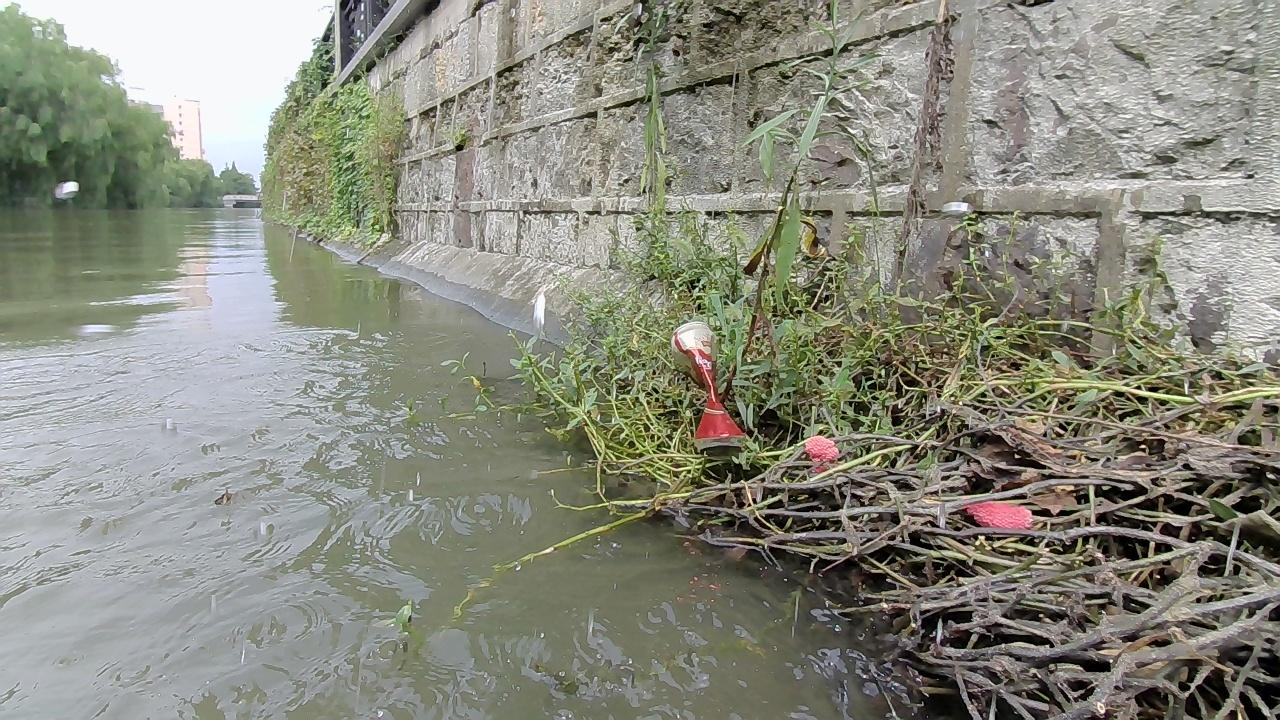bottle: (670, 320, 751, 448)
